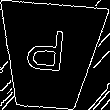P_S: (27, 29, 73, 83)
